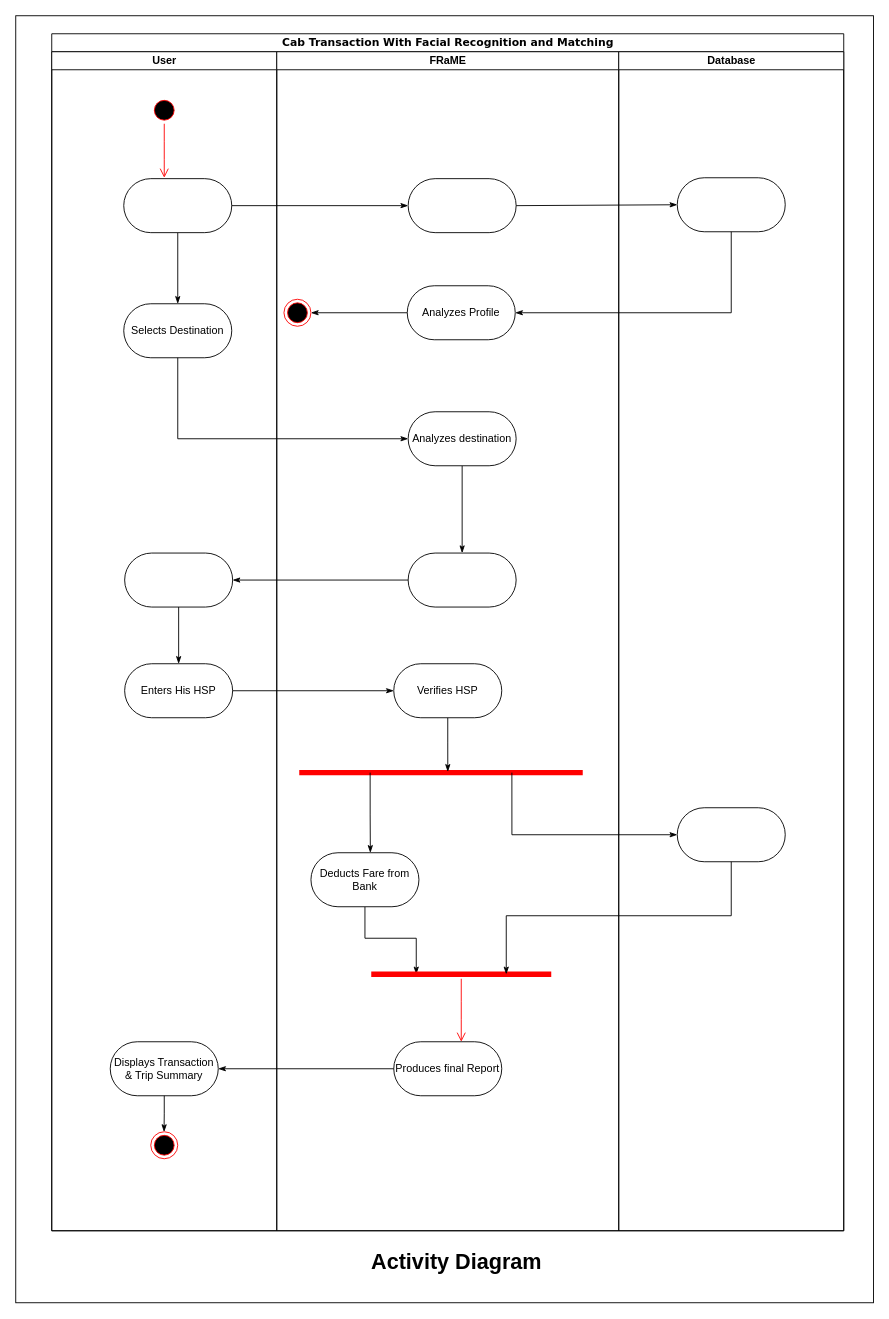
Some shapes in this 889 by 1319 pixel diagram are drawn without their labels. Each missing label, with the centre of its shape:
Apply Algorithm: (x=461, y=579)
Enters a Cab: (x=177, y=205)
Receives Fare Details: (x=178, y=579)
Retrieves User Profile: (x=730, y=204)
Scans Face: (x=461, y=205)
Stores User Trip Details: (x=730, y=834)
